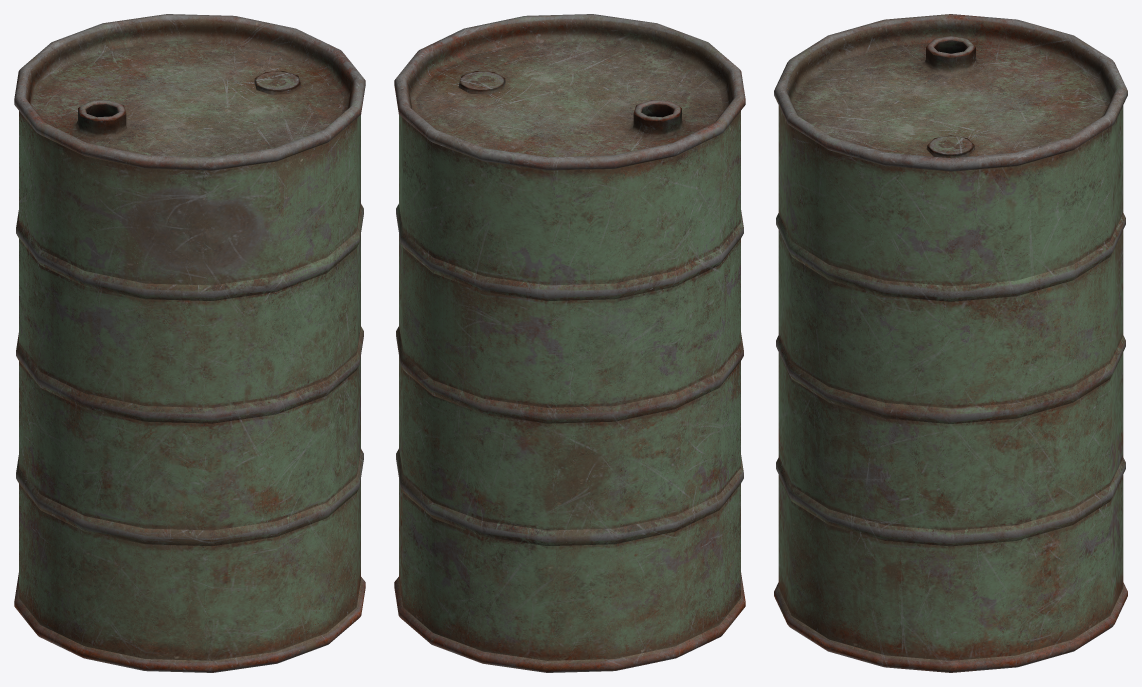
The picture shows the model from 3 angles, left to right: view 1: azimuth 30°, elevation 25°; view 2: azimuth 150°, elevation 25°; view 3: azimuth 270°, elevation 25°; orthographic projection.
Parts seen in each view (by area): view 1: FuelBarrel_Low; view 2: FuelBarrel_Low; view 3: FuelBarrel_Low.
Boxes of the visible parts, <box> form: FuelBarrel_Low: <box>14,14,365,672</box>; FuelBarrel_Low: <box>394,14,745,672</box>; FuelBarrel_Low: <box>774,14,1127,672</box>.
Bounding box in the file's own units: 1.15 × 1.85 × 1.15.
1 material, 1 textured.
